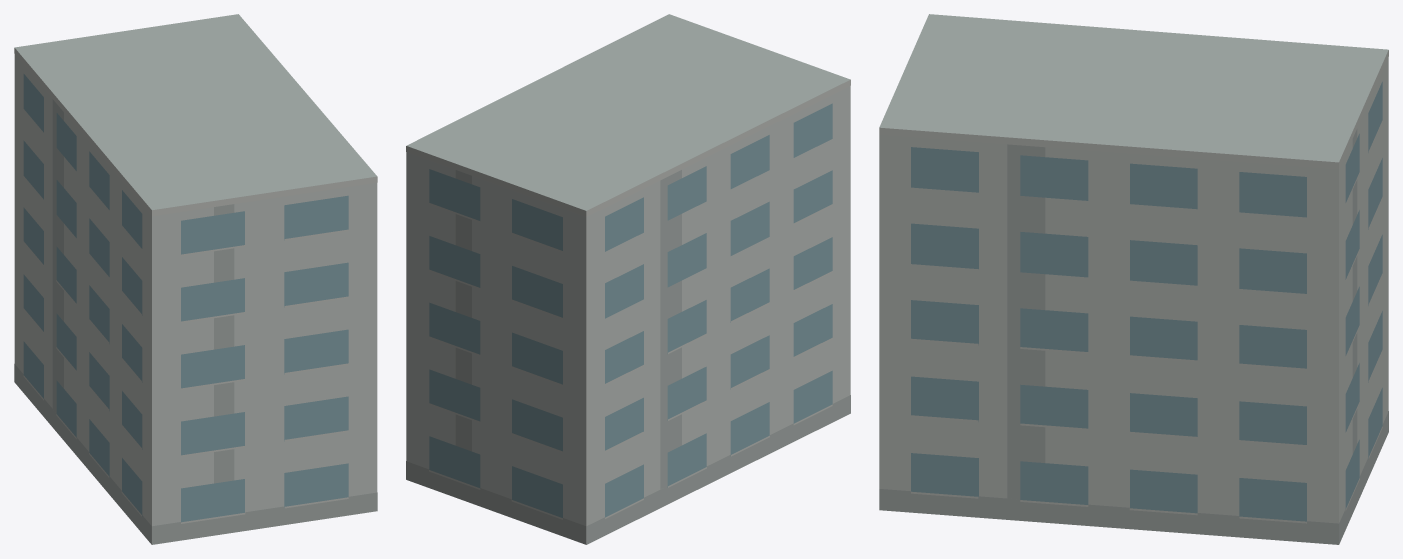
The model's file is survey-upis-32883454.glb.
The picture shows the model from 3 angles, left to right: view 1: azimuth 30°, elevation 25°; view 2: azimuth 150°, elevation 25°; view 3: azimuth 270°, elevation 25°; orthographic projection. The views are drawn at different scales.
Parts seen in each view (by area): view 1: survey-upis-32883454.tmp; view 2: survey-upis-32883454.tmp; view 3: survey-upis-32883454.tmp.
Part boxes in pixels (x1,y1,x2,y2): survey-upis-32883454.tmp: (14, 14, 377, 544); survey-upis-32883454.tmp: (406, 14, 850, 544); survey-upis-32883454.tmp: (879, 14, 1388, 544).
Size of the model in its own units: 10.99 by 13.2 by 15.95.
